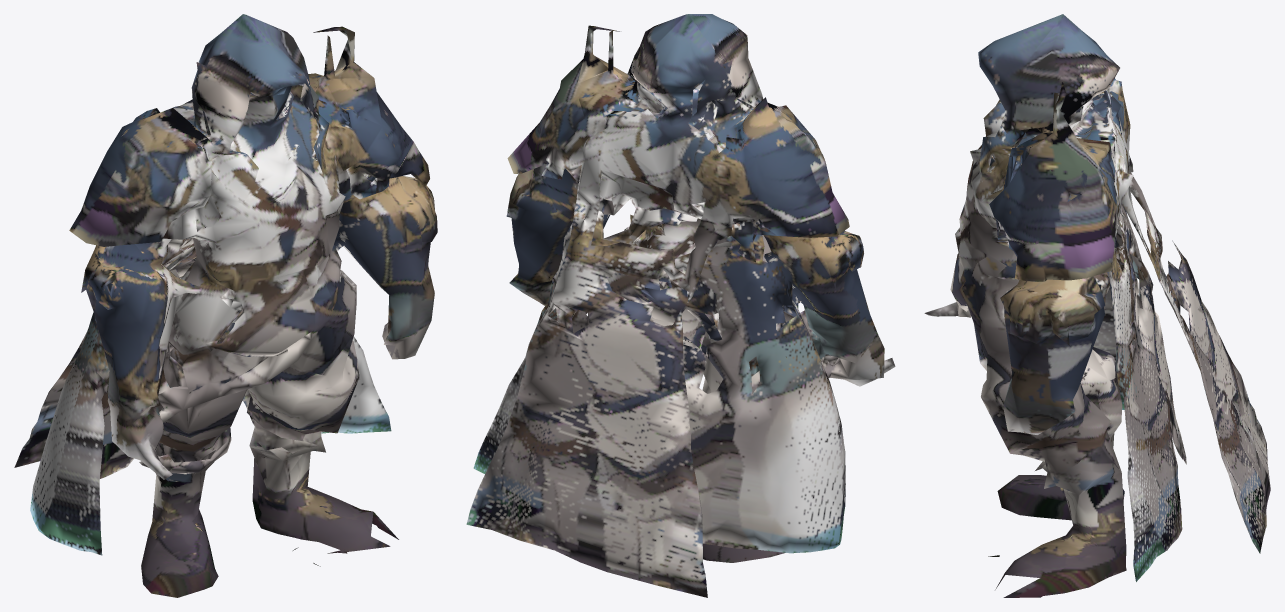
Rendered from quicksilver_runner.glb.
3 views of the same model, side by side, from view 1: azimuth 30°, elevation 25°; view 2: azimuth 150°, elevation 25°; view 3: azimuth 270°, elevation 25° (orthographic). The views are drawn at different scales.
Visible parts, largest first — view 1: LP_baked; view 2: LP_baked; view 3: LP_baked.
Boxes of the visible parts, x1,y1,x2,y2 form: LP_baked: [14, 14, 437, 597]; LP_baked: [466, 14, 895, 597]; LP_baked: [924, 14, 1270, 597].
Size of the model in its own units: 1.43 by 2.01 by 1.2.
Materials: 1 (1 with a texture image).
